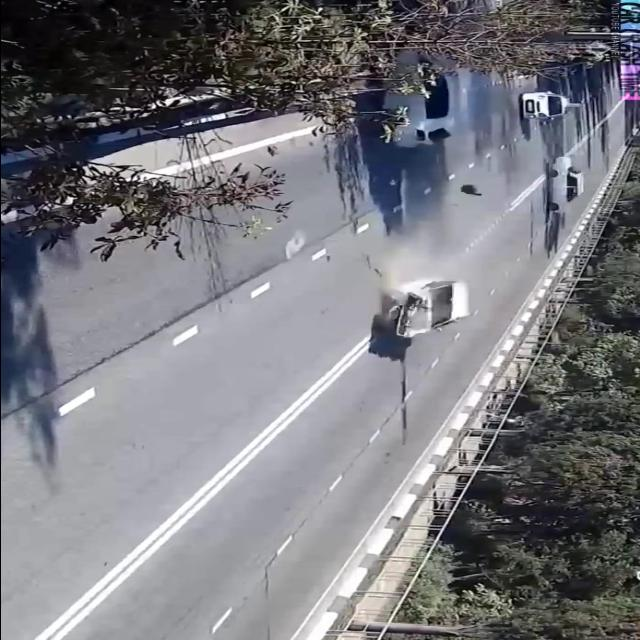accident: (352, 2, 492, 198), (355, 259, 483, 349)
